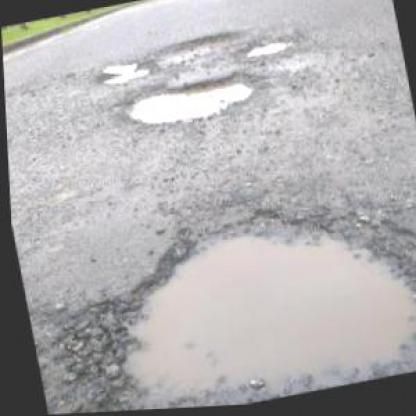pothole: (40, 174, 415, 414), (115, 69, 269, 133), (152, 29, 250, 63), (96, 56, 154, 88), (240, 34, 299, 64)
